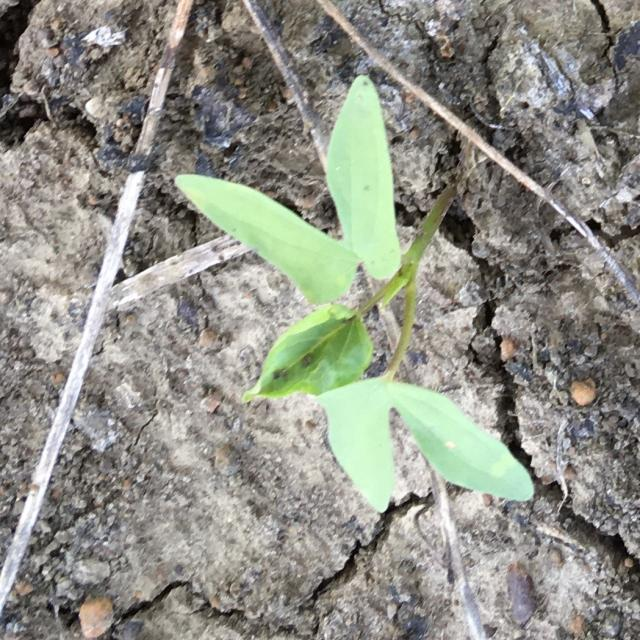MorningGlory: (174, 75, 536, 511)
